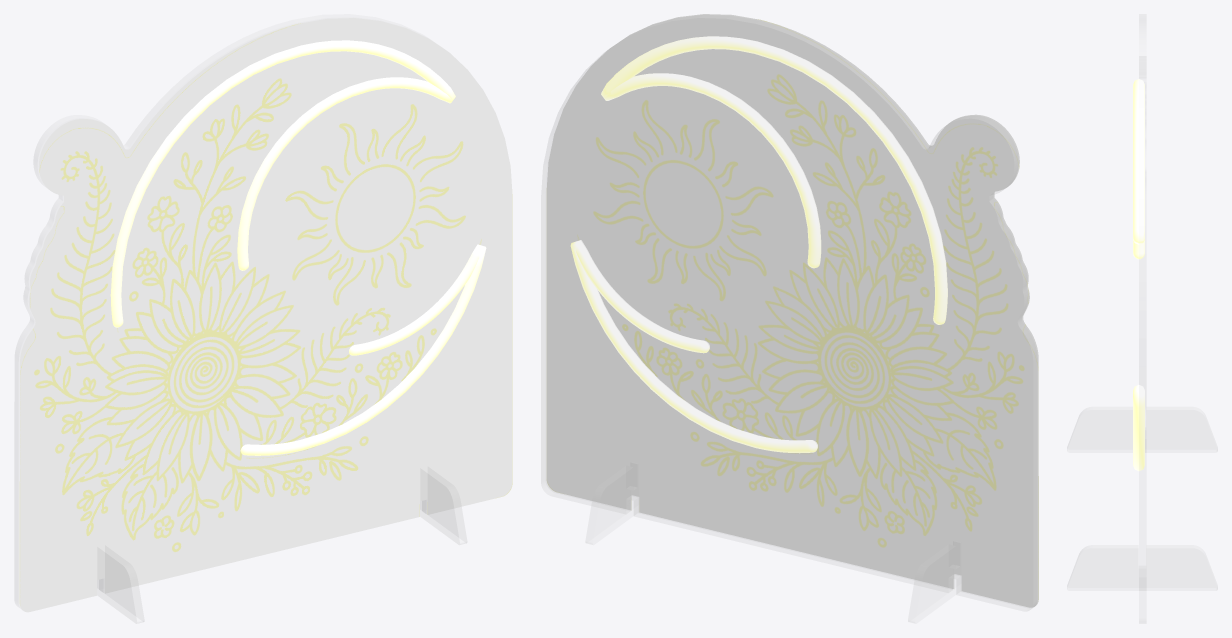
The model's file is місяць_25.06.2026.glb.
3 views of the same model, side by side, from view 1: azimuth 30°, elevation 25°; view 2: azimuth 150°, elevation 25°; view 3: azimuth 270°, elevation 25° (orthographic). The views are drawn at different scales.
Parts seen in each view (by area): view 1: Curve.001, Curve.030, Curve.031, Curve.032; view 2: Curve.031, Curve.001, Curve.030, Curve.032; view 3: Curve.032, Curve.030, Curve.031.
Part boxes in pixels (x1,y1,x2,y2): Curve.001: (19,18,512,612); Curve.030: (110,40,486,455); Curve.031: (15,14,426,608); Curve.032: (97,467,466,623); Curve.031: (541,15,1036,610); Curve.001: (546,14,1038,607); Curve.030: (570,36,947,453); Curve.032: (586,466,960,623); Curve.032: (1067,407,1217,590); Curve.030: (1133,79,1144,471); Curve.031: (1139,14,1146,623).
Size of the model in its own units: 0.3314 by 0.336 by 0.1.
3 materials, 1 textured.
